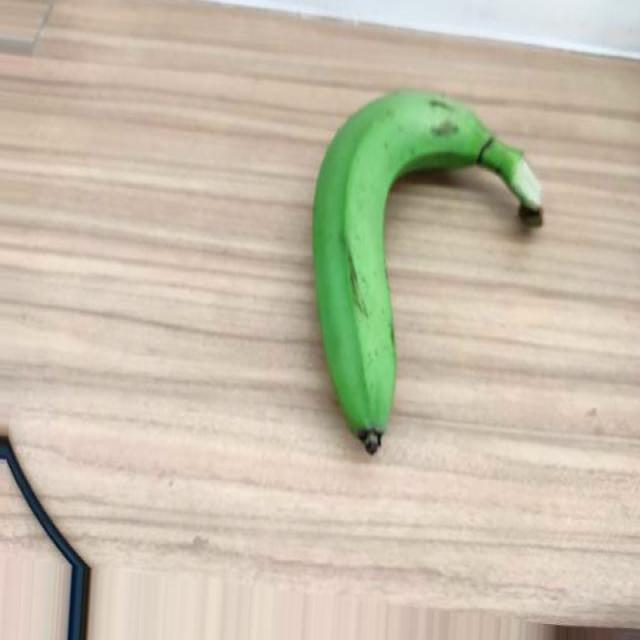Unripe: (310, 88, 545, 457)
